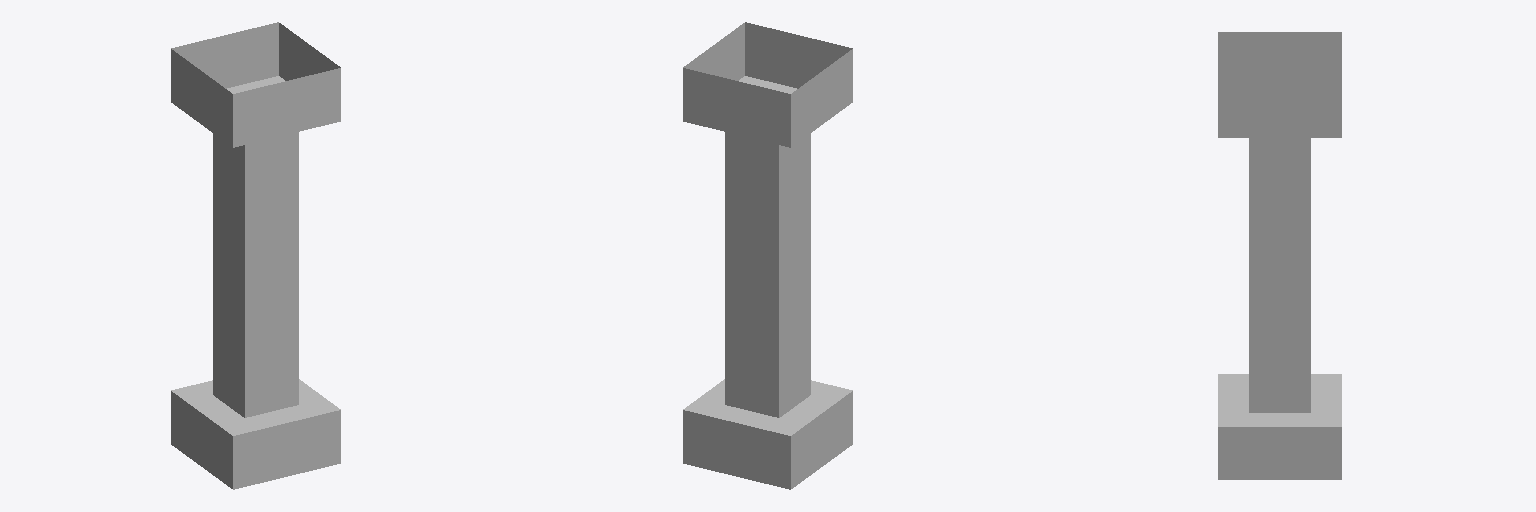
Rendered from hyperdoric_column_corrected_maybe.obj.
3 views of the same model, side by side, from view 1: azimuth 30°, elevation 25°; view 2: azimuth 150°, elevation 25°; view 3: azimuth 270°, elevation 25° (orthographic).
Parts seen in each view (by area): view 1: Cube; view 2: Cube; view 3: Cube.
Part boxes in pixels (x1,y1,x2,y2): Cube: (171,22,340,489); Cube: (683,22,852,489); Cube: (1218,32,1341,479).
Bounding box in the file's own units: 2 × 7 × 2.